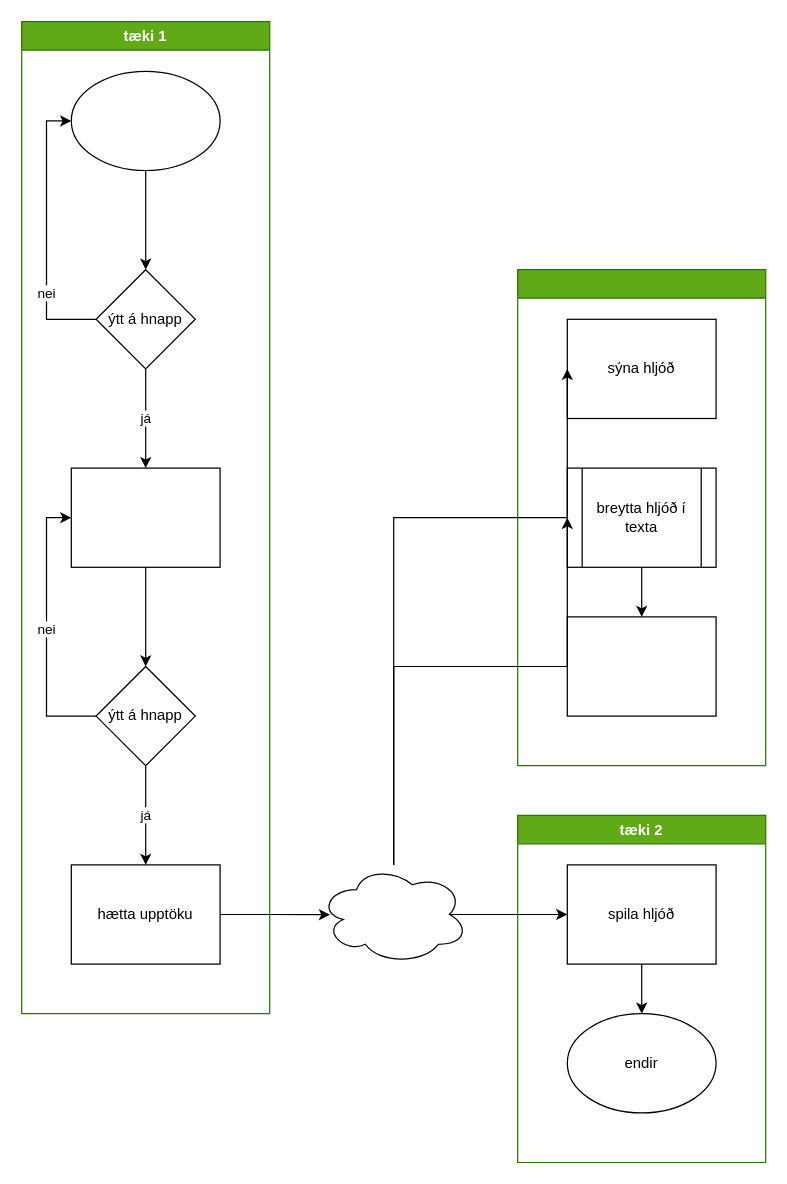
Some shapes in this 787 by 1184 pixel diagram are drawn without their labels. Here are the shapes that lost their labels. From the top down, the box of each, then its label:
(70, 70, 220, 170): Byrjun
(70, 467, 220, 567): taka upp hljóð
(516, 268, 766, 766): nice GUI Log
(566, 616, 716, 716): sýna texta
(318, 864, 468, 964): ský
